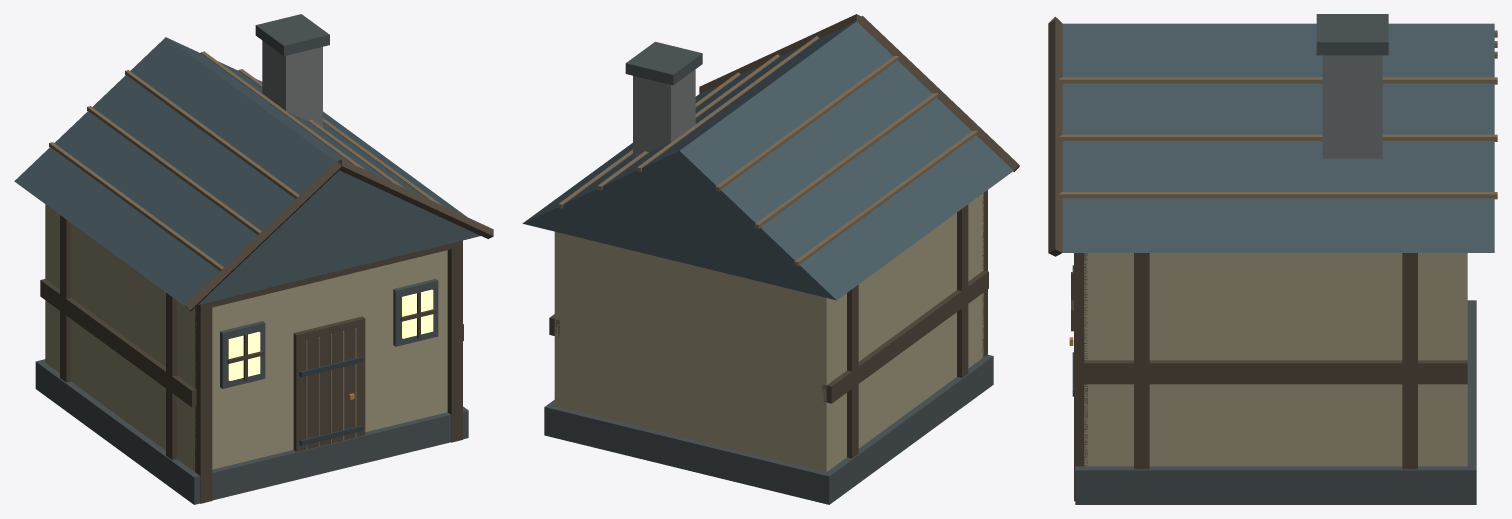
File: BLD_House_00_Timber.glb
3 views of the same model, side by side, from view 1: azimuth 30°, elevation 25°; view 2: azimuth 150°, elevation 25°; view 3: azimuth 270°, elevation 25° (orthographic). The views are drawn at different scales.
Visible parts, largest first — view 1: BLD_House_00_Timber; view 2: BLD_House_00_Timber; view 3: BLD_House_00_Timber.
Boxes of the visible parts, box(x1,y1,x2,y2) form: BLD_House_00_Timber: box(14, 14, 493, 504); BLD_House_00_Timber: box(522, 14, 1019, 504); BLD_House_00_Timber: box(1048, 14, 1497, 504).
Size of the model in its own units: 3.77 by 4.01 by 3.75.
